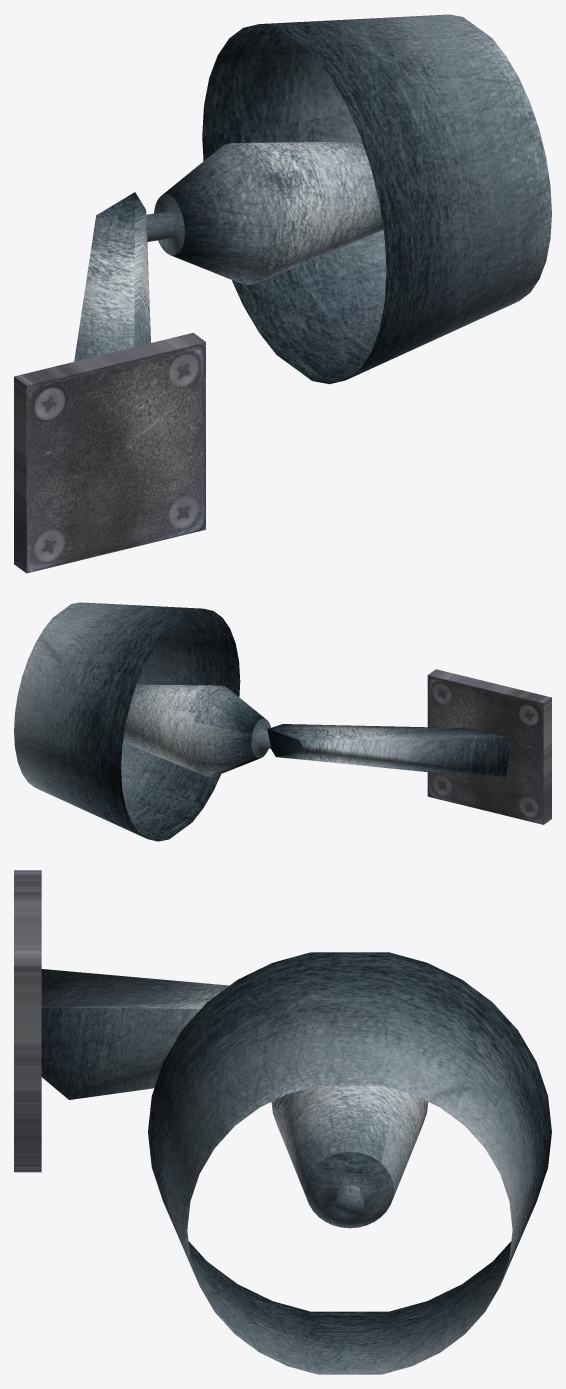
File: propeller_2.glb
3 renders of one model, top to bottom at view 1: azimuth 30°, elevation 25°; view 2: azimuth 150°, elevation 25°; view 3: azimuth 270°, elevation 25°, orthographic. The views are drawn at different scales.
Parts seen in each view (by area): view 1: Cylinder, Plane, Cylinder.001, Cube; view 2: Cylinder, Plane, Cylinder.001, Cube; view 3: Cylinder, Cube, Cylinder.001, Plane.
Boxes of the visible parts, x1,y1,x2,y2 form: Cylinder: [202, 14, 551, 384]; Plane: [14, 332, 205, 573]; Cylinder.001: [146, 141, 383, 284]; Cube: [74, 192, 150, 361]; Cylinder: [14, 602, 240, 841]; Plane: [427, 669, 551, 824]; Cylinder.001: [123, 684, 271, 777]; Cube: [267, 724, 511, 776]; Cylinder: [148, 952, 551, 1374]; Cube: [41, 969, 229, 1099]; Cylinder.001: [271, 1085, 428, 1228]; Plane: [14, 870, 41, 1172].
Bounding box in the file's own units: 2.27 × 1.18 × 1.6.
2 materials, 2 textured.
